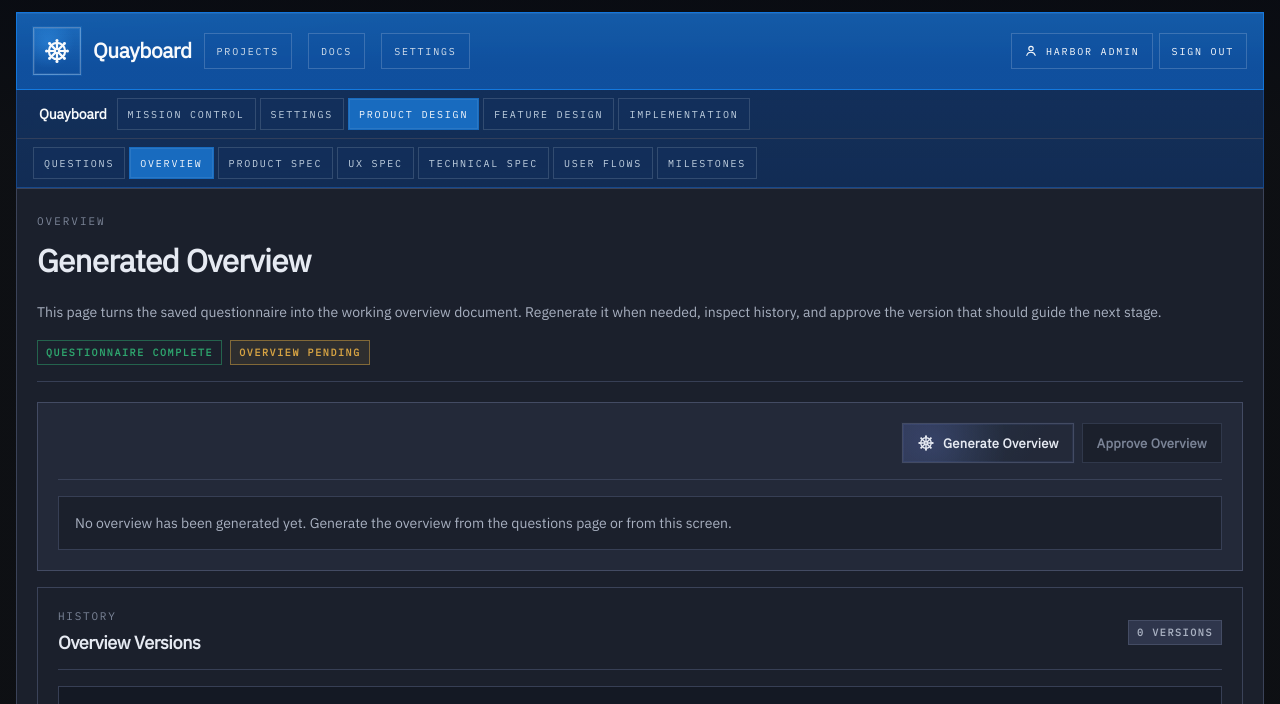
Scenario: workflow pages › refreshes the overview after generation succeeds without a page reload
This screenshot has width=1280, height=704.
Click the button "Generate Overview". click: (988, 443)
box: x1=902 y1=423 x2=1074 y2=463
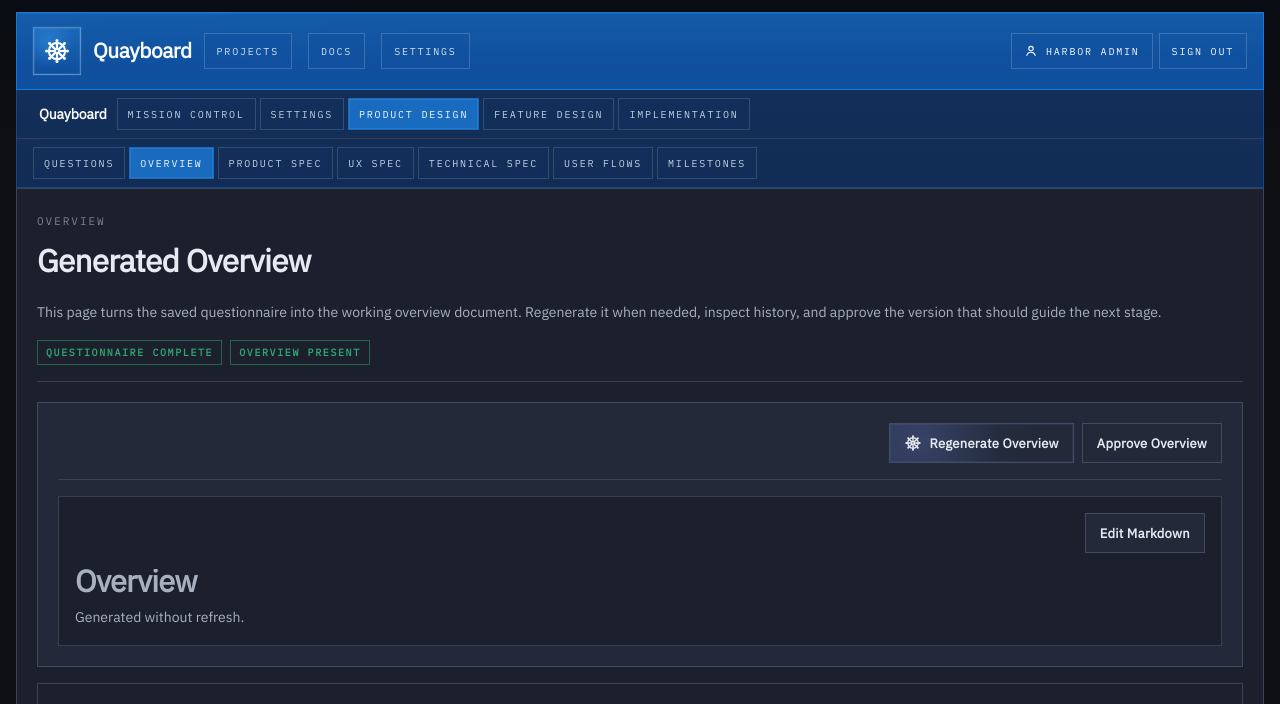
Result: the text "Generated without refresh." is shown at x1=75 y1=608 x2=244 y2=626
